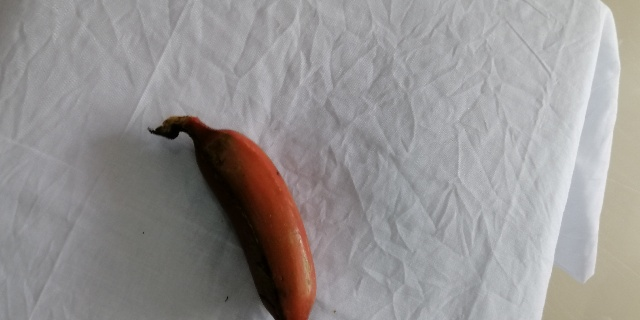banana_red: (155, 116, 319, 320)
